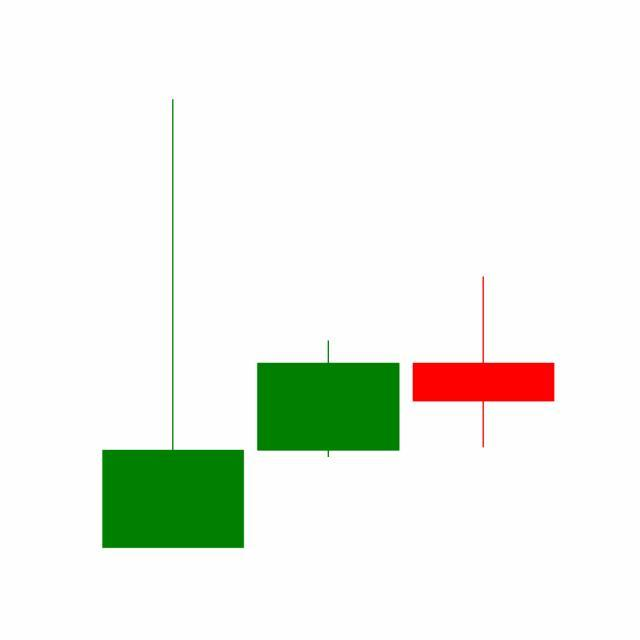Marubozu: (250, 339, 407, 460)
